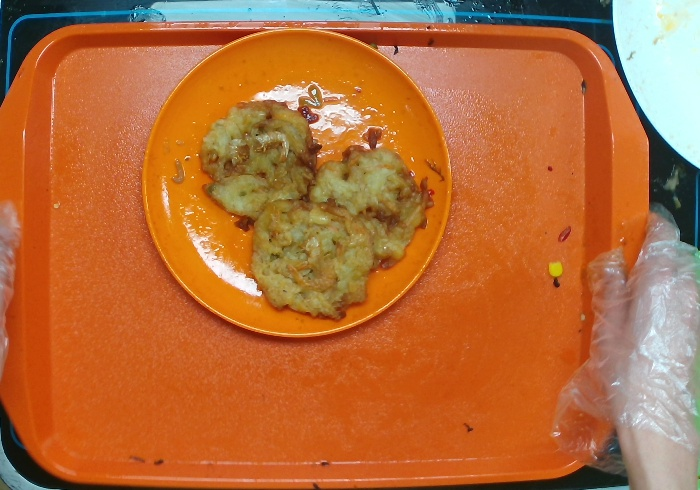HZYJPL-Ju_Huang_Yuan_Pan: (137, 24, 455, 340)
